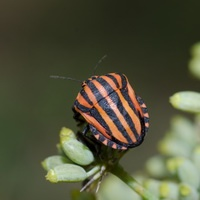insect: (73, 73, 148, 148)
